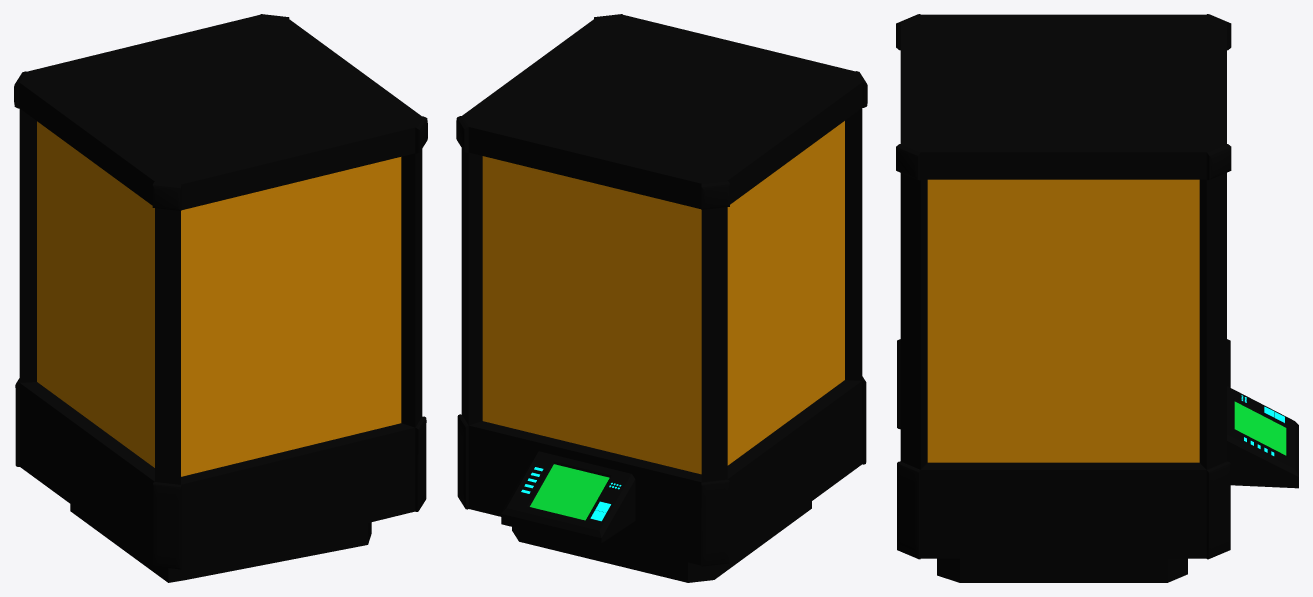
The model's file is HoloDisplay.fbx.
3 views of the same model, side by side, from view 1: azimuth 30°, elevation 25°; view 2: azimuth 150°, elevation 25°; view 3: azimuth 270°, elevation 25° (orthographic). The views are drawn at different scales.
Visible parts, largest first — view 1: Plane.002; view 2: Plane.002; view 3: Plane.002.
Boxes of the visible parts, x1,y1,x2,y2 form: Plane.002: (14, 14, 427, 582); Plane.002: (456, 14, 867, 582); Plane.002: (896, 14, 1298, 582).
Bounding box in the file's own units: 315 × 464 × 379.
